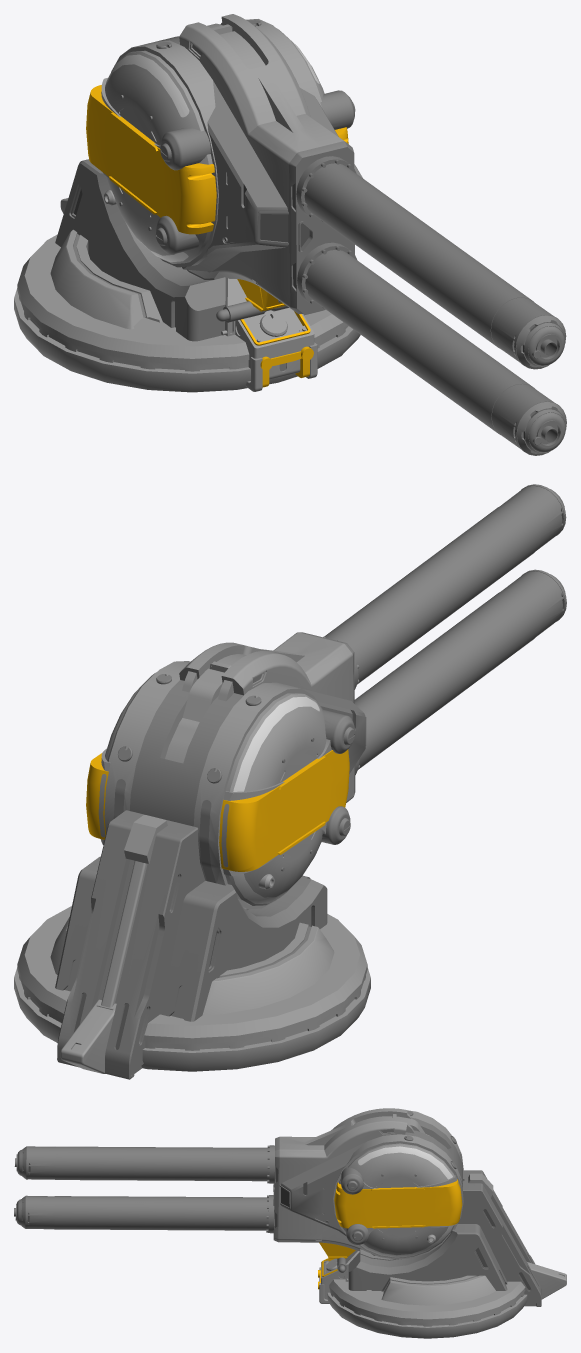
The model's file is Turret.fbx.
3 views of the same model, one above another, from view 1: azimuth 30°, elevation 25°; view 2: azimuth 150°, elevation 25°; view 3: azimuth 270°, elevation 25° (orthographic). The views are drawn at different scales.
Parts seen in each view (by area): view 1: Turret, Base; view 2: Turret, Base; view 3: Turret, Base.
Part boxes in pixels (left/top/right/bottom): Turret: left=86, top=14, right=566, bottom=455; Base: left=14, top=159, right=360, bottom=392; Turret: left=86, top=484, right=566, bottom=909; Base: left=14, top=810, right=370, bottom=1079; Turret: left=14, top=1108, right=463, bottom=1259; Base: left=318, top=1170, right=566, bottom=1338.
Bounding box in the file's own units: 0.2889 × 0.2827 × 0.7774.
